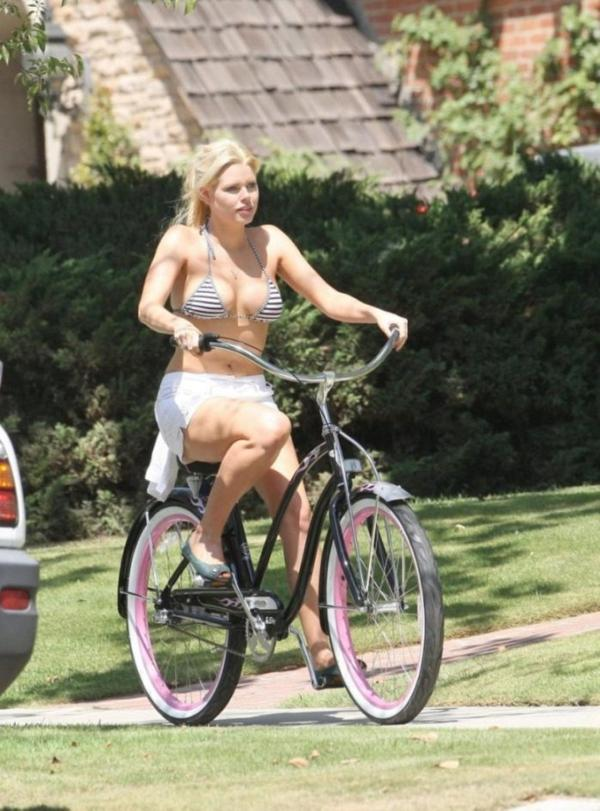person: (136, 139, 406, 688)
